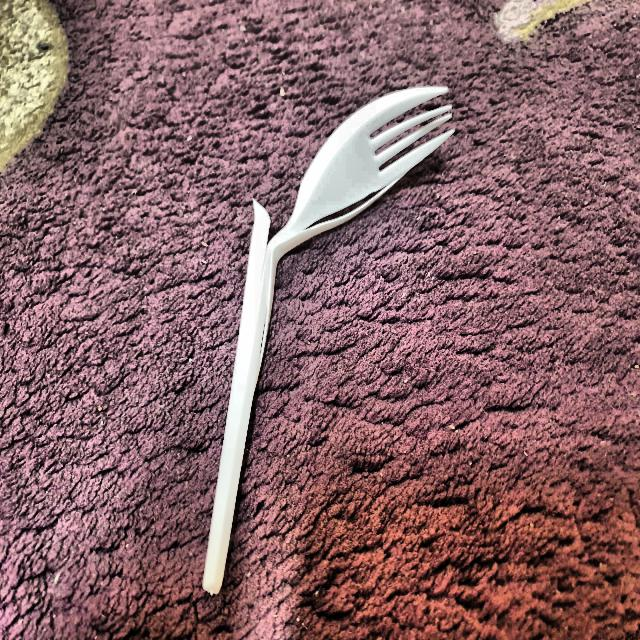plastic utensil: (193, 73, 465, 606)
